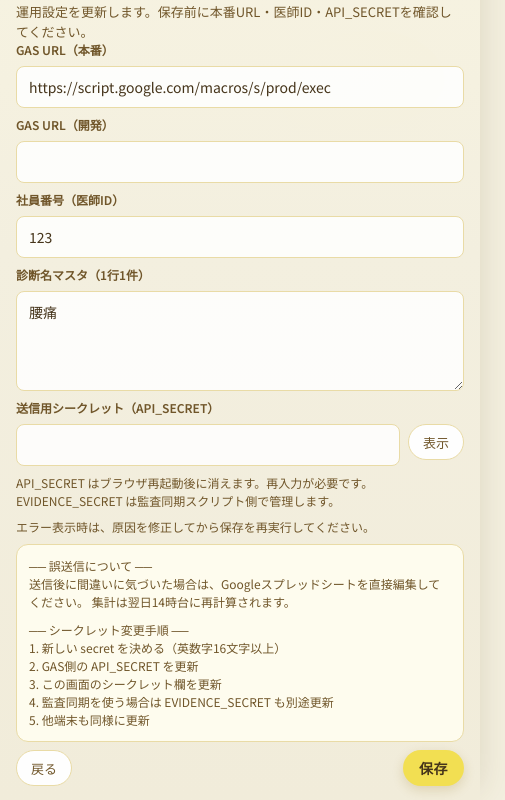
SettingsScreen › シークレットが空の場合は保存しない
This screenshot has width=505, height=800.
(page scrolled)
Click the button "保存" at (433, 768), box [403, 750, 464, 786]
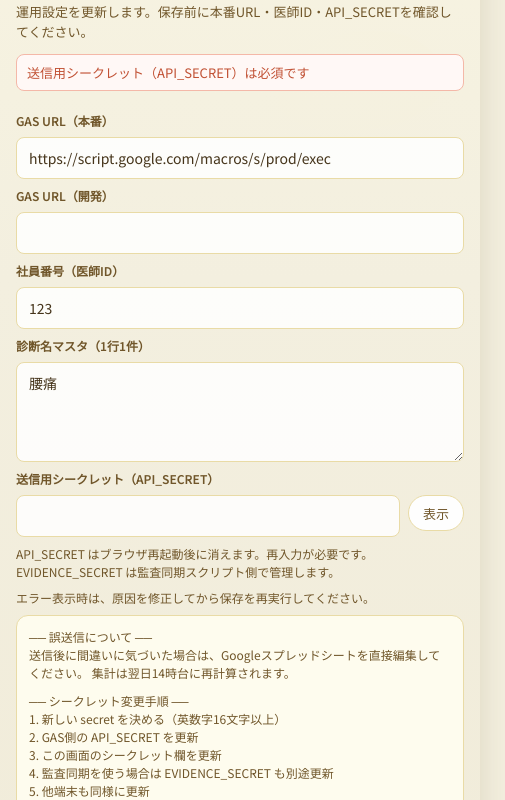
Now the text "送信用シークレット（API_SECRET）は必須です" is shown, box [16, 54, 464, 91]
